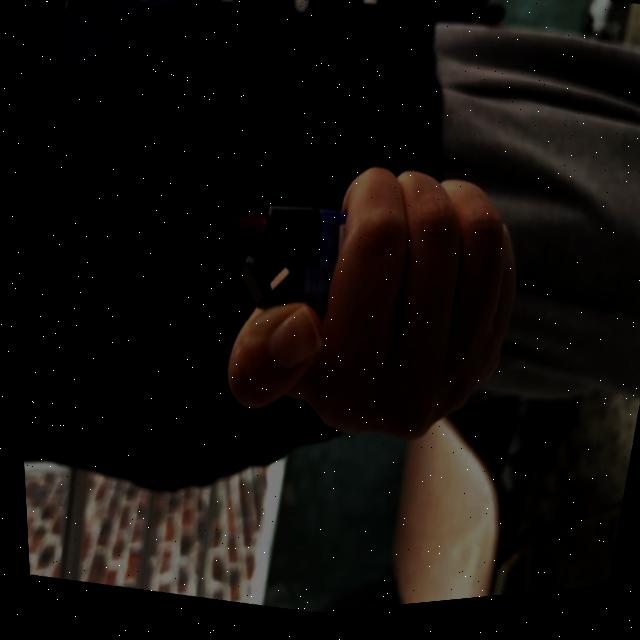Fire: (209, 203, 269, 247)
